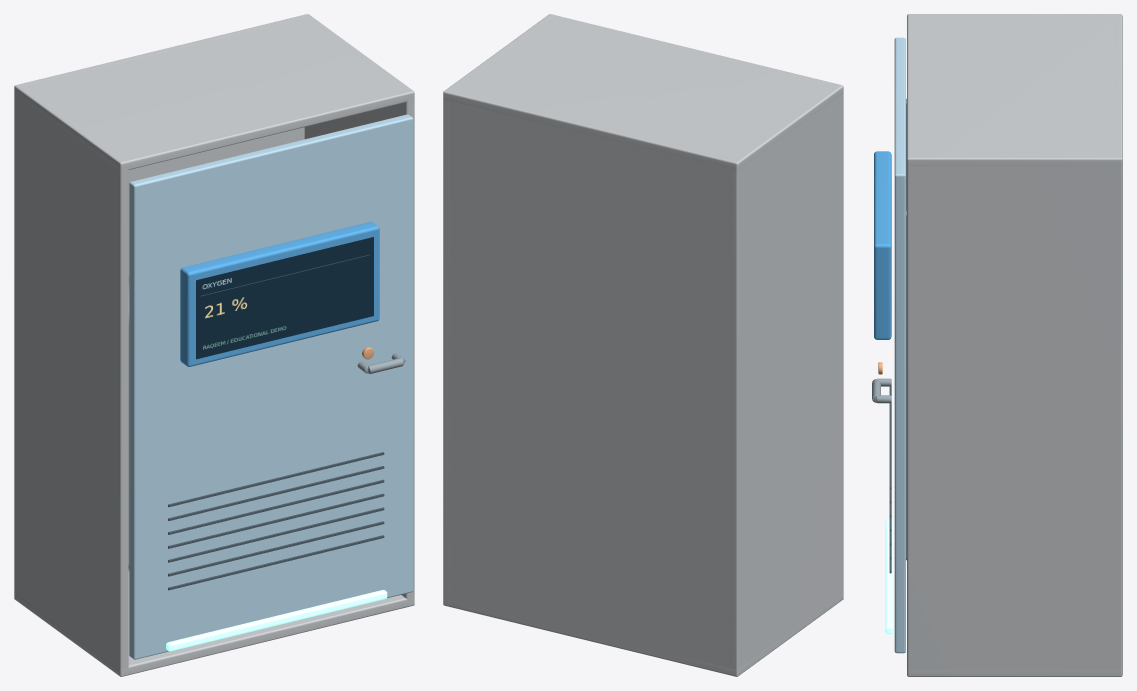
File: oxygen_unit.glb
3 renders of one model, left to right at view 1: azimuth 30°, elevation 25°; view 2: azimuth 150°, elevation 25°; view 3: azimuth 270°, elevation 25°, orthographic.
Parts seen in each view (by area): view 1: Air_Service_Panel, Air_Unit_Left, Air_Unit_Top, Air_Readout_Screen, Air_Readout_Housing, Air_Unit_Bottom, Air_Unit_Rear, Air_Unit_Right, Oxygen_Base_LED, Air_Inlet1, Air_Inlet0, Air_Inlet3 (+4 smaller); view 2: Air_Unit_Rear, Air_Unit_Left, Air_Unit_Top, Air_Unit_Right, Air_Unit_Bottom; view 3: Air_Unit_Right, Air_Unit_Top, Air_Service_Panel, Air_Readout_Housing, Air_Unit_Rear, Air_Unit_Bottom, Oxygen_Base_LED.
Boxes of the visible parts, x1,y1,x2,y2 form: Air_Service_Panel: (129, 114, 413, 659); Air_Unit_Left: (14, 84, 128, 675); Air_Unit_Top: (14, 14, 414, 170); Air_Readout_Screen: (196, 237, 373, 359); Air_Readout_Housing: (180, 222, 379, 366); Air_Unit_Bottom: (14, 571, 414, 676); Air_Unit_Rear: (14, 15, 311, 559); Air_Unit_Right: (302, 14, 414, 606); Oxygen_Base_LED: (166, 590, 387, 651); Air_Inlet1: (168, 521, 384, 576); Air_Inlet0: (168, 535, 384, 590); Air_Inlet3: (168, 493, 384, 548); Air_Unit_Rear: (444, 89, 741, 675); Air_Unit_Left: (730, 84, 843, 676); Air_Unit_Top: (443, 14, 843, 170); Air_Unit_Right: (443, 14, 554, 606); Air_Unit_Bottom: (443, 593, 843, 676); Air_Unit_Right: (907, 155, 1122, 675); Air_Unit_Top: (907, 14, 1122, 166); Air_Service_Panel: (894, 37, 905, 653); Air_Readout_Housing: (874, 151, 891, 339); Air_Unit_Rear: (1114, 14, 1120, 676); Air_Unit_Bottom: (907, 669, 1122, 676); Oxygen_Base_LED: (885, 520, 893, 634).
Size of the model in its own units: 0.78 by 1.3 by 0.569.
10 materials, 1 textured.
